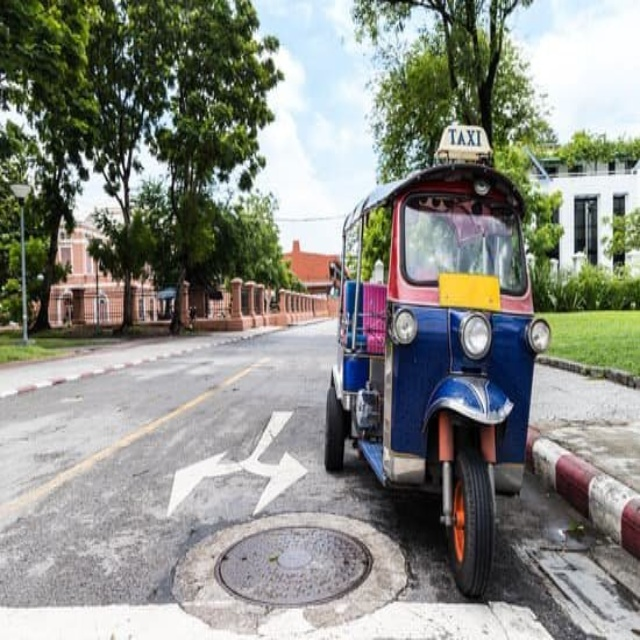Motorcycle: (327, 124, 550, 600)
